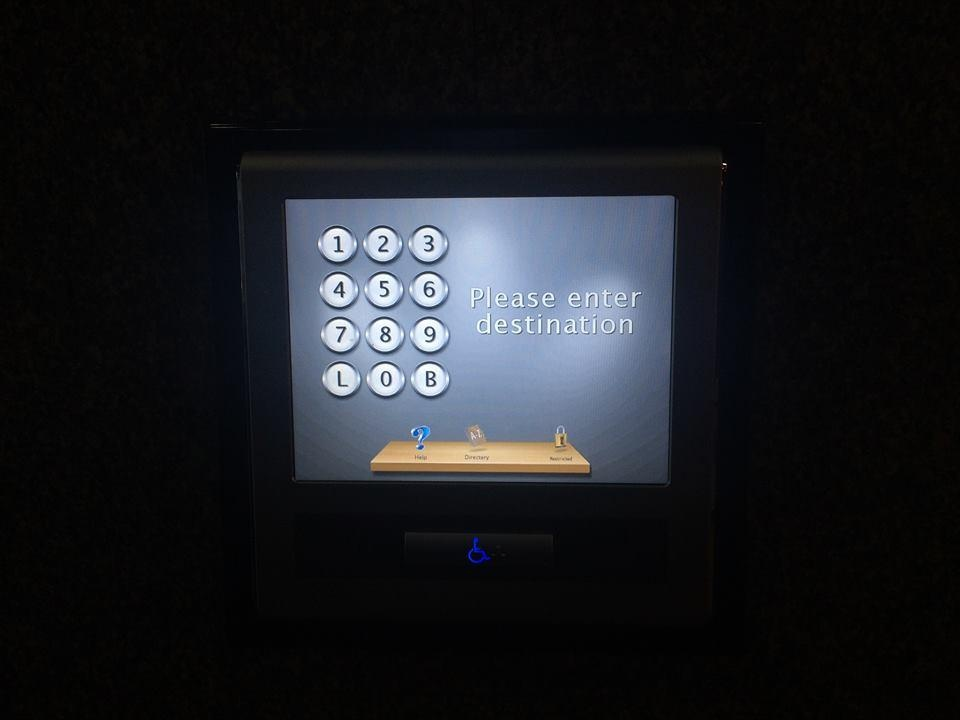0: (365, 358, 406, 402)
1: (316, 221, 359, 266)
2: (361, 222, 404, 266)
3: (406, 222, 450, 266)
4: (317, 268, 362, 310)
5: (362, 265, 405, 312)
6: (406, 267, 451, 312)
7: (318, 313, 362, 356)
8: (363, 312, 406, 358)
9: (407, 313, 452, 357)
B: (409, 359, 451, 402)
L: (318, 358, 362, 402)
